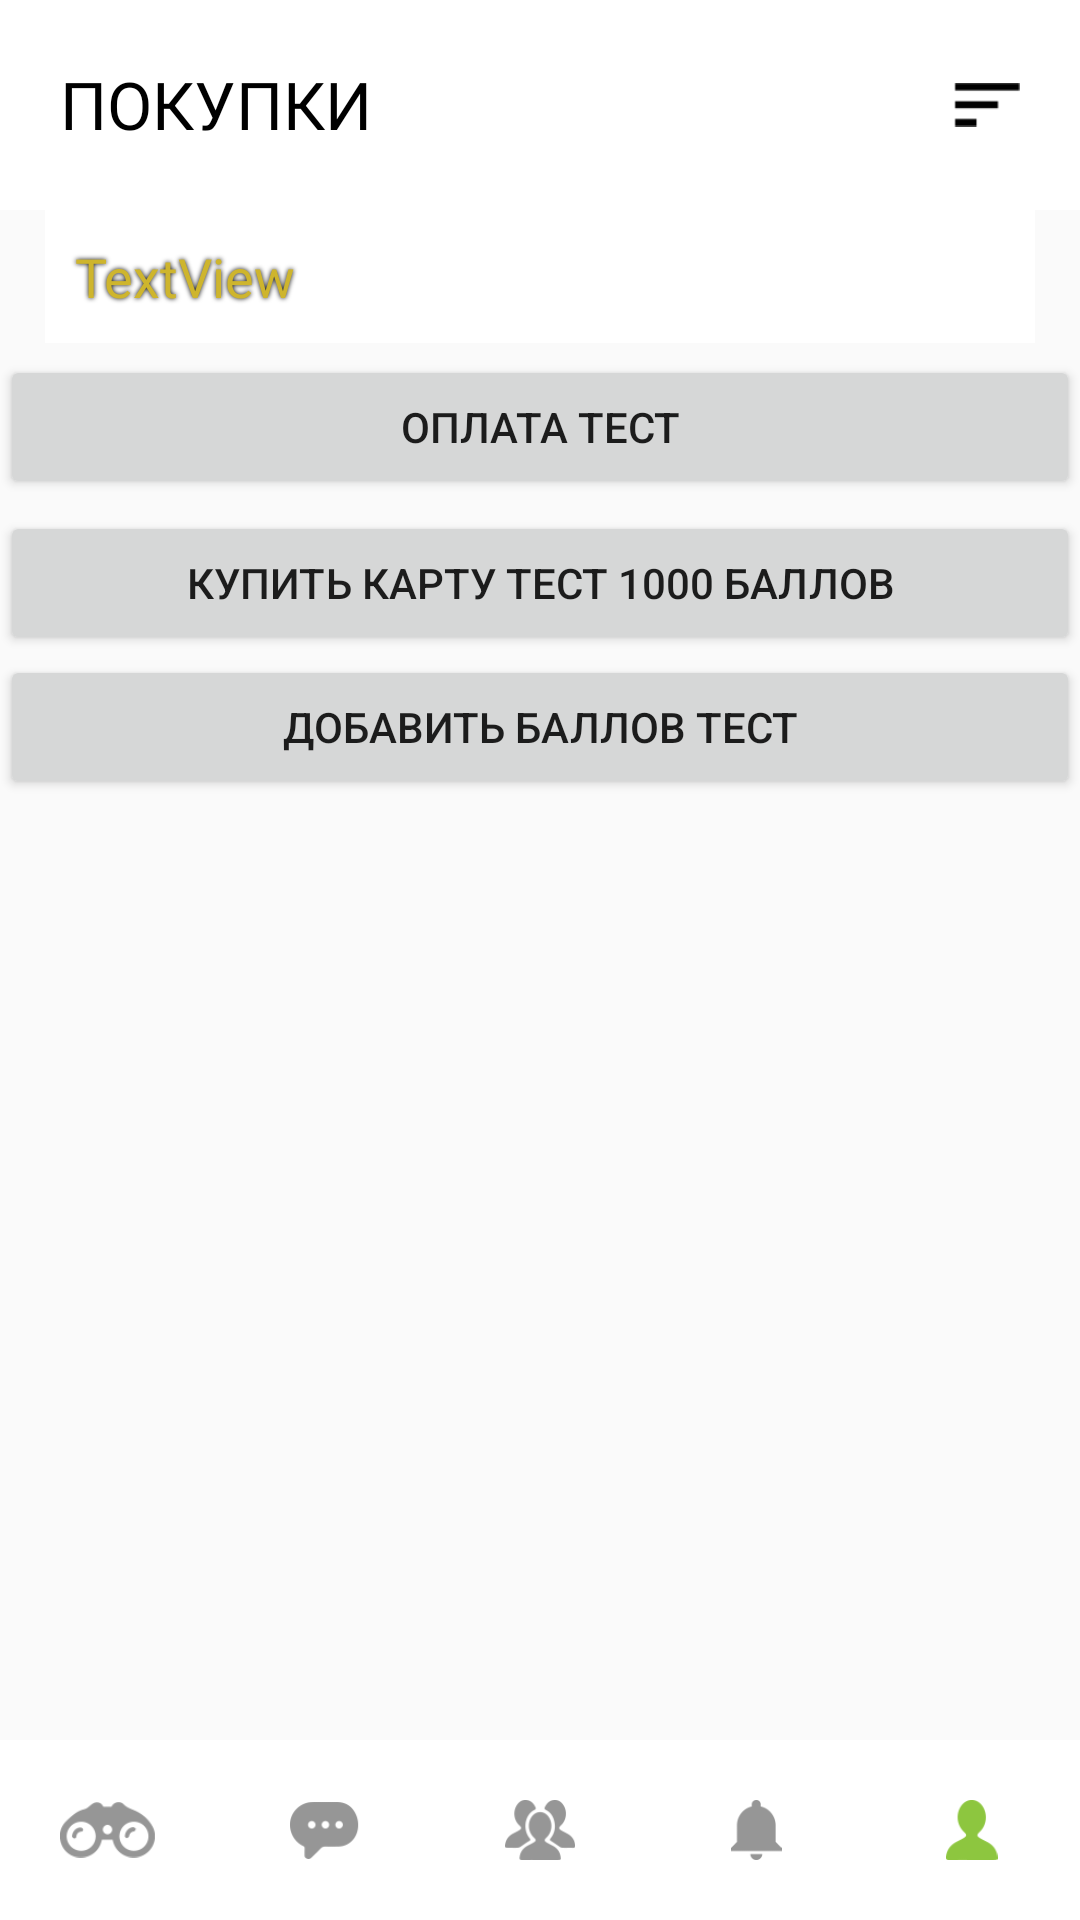

Icon bounding boxes for this 1080*1920 phone screenshot, format detection(x1, y1, x2, y2):
icfind: detection(60, 1802, 155, 1858)
icmessages: detection(290, 1802, 358, 1859)
icnotification: detection(731, 1800, 782, 1860)
icprofilegreen: detection(946, 1800, 998, 1860)
menuicon: detection(954, 83, 1020, 127)
